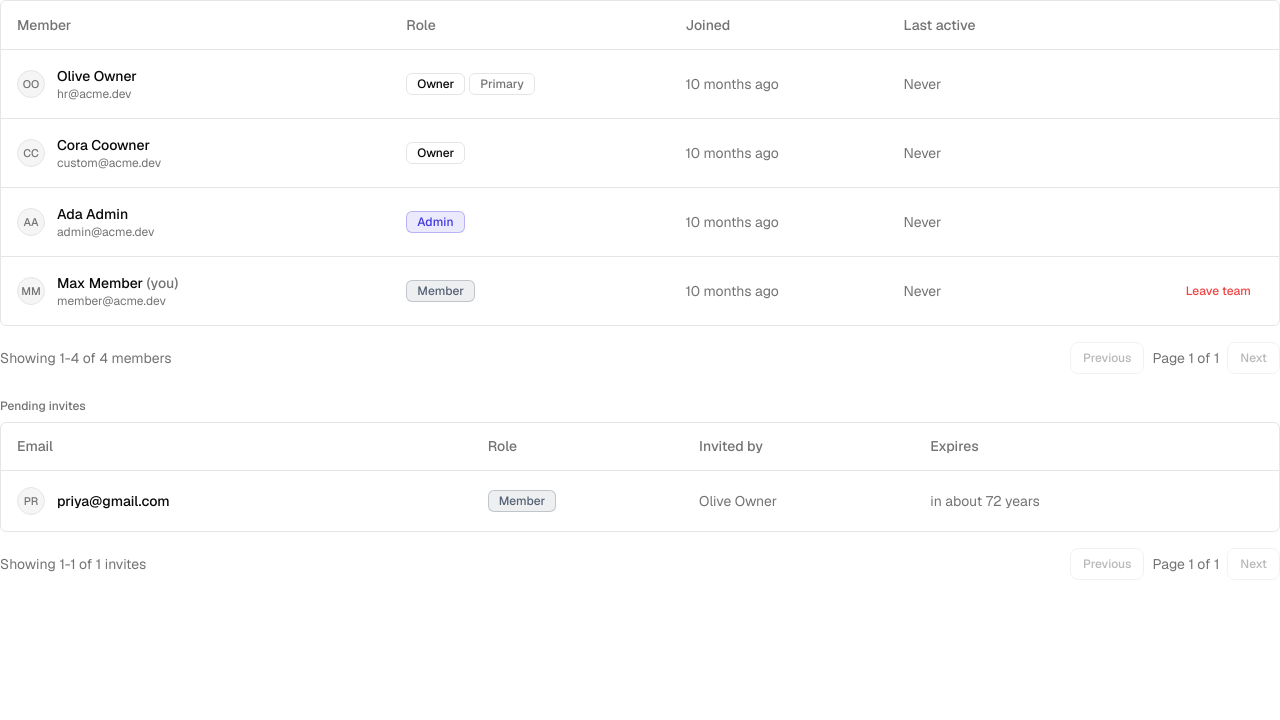
Test: TeamTable (RP-REQ-013, RPT-035/042) › doesn't leave when the confirmation is cancelled
Click the button "Leave team": (1218, 290) x1=1174 y1=274 x2=1263 y2=306
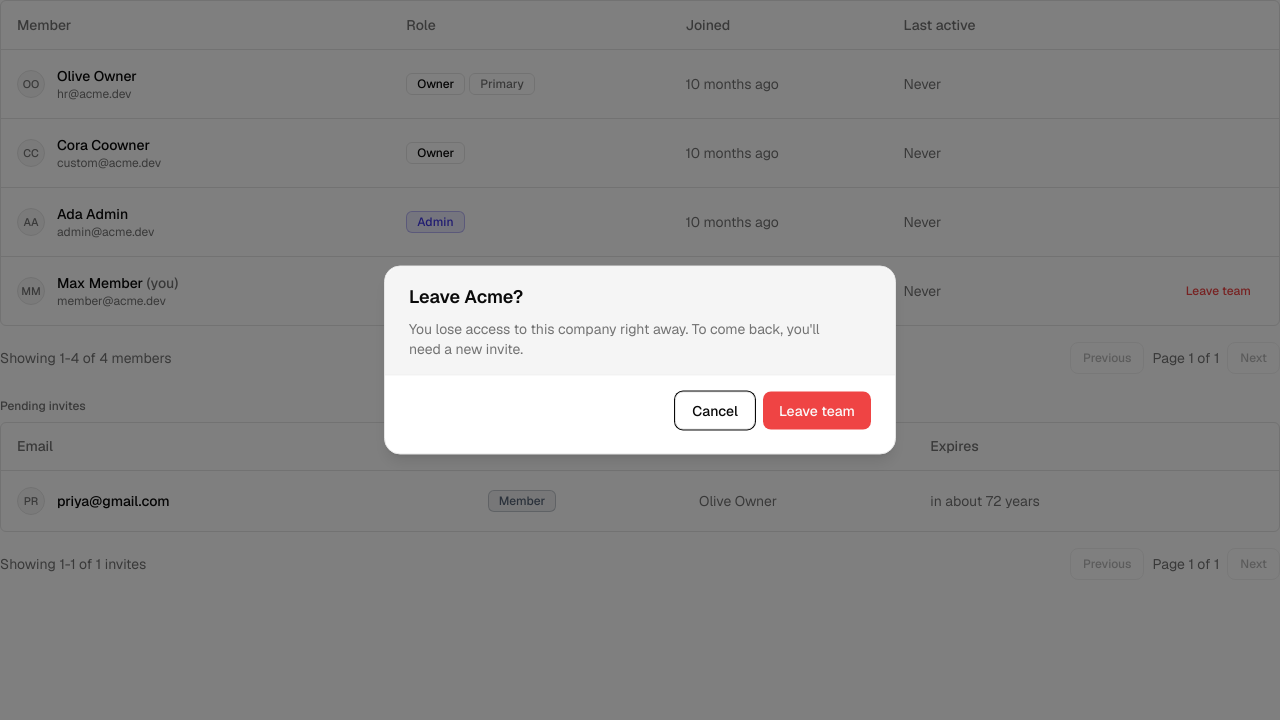
Click the button "Cancel": (715, 410) x1=675 y1=392 x2=755 y2=430
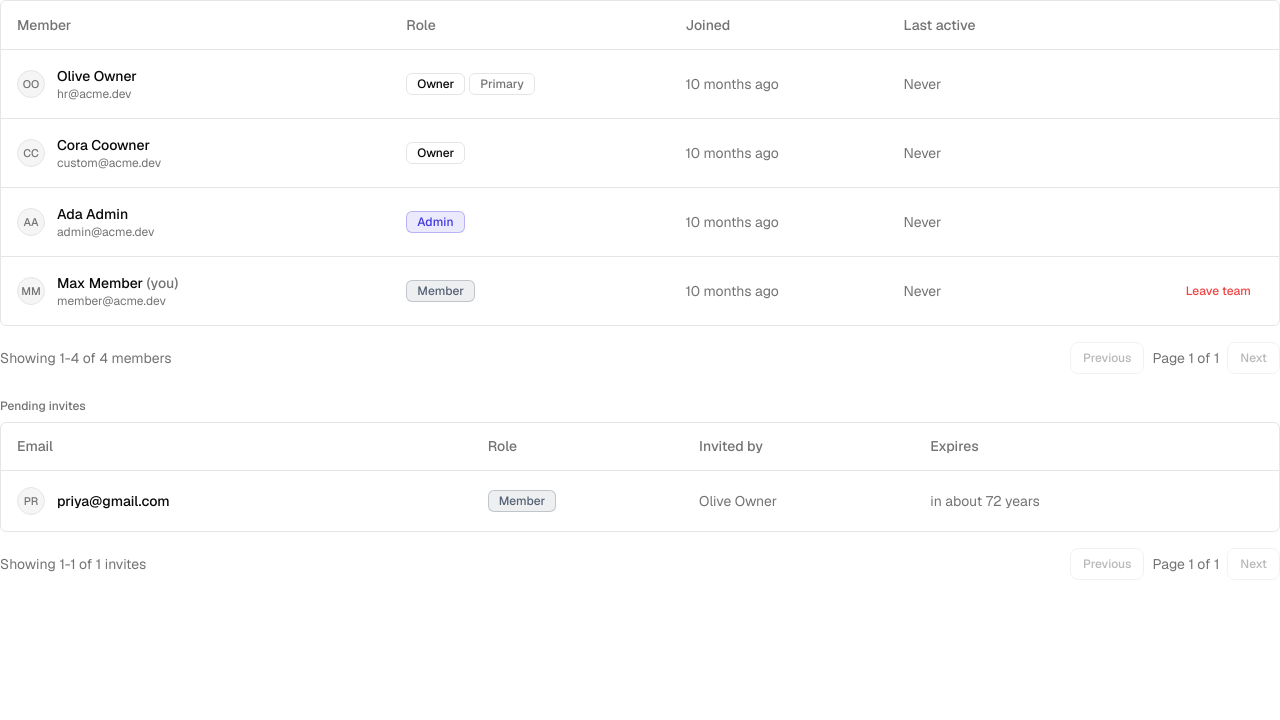
Now the dialog is gone
